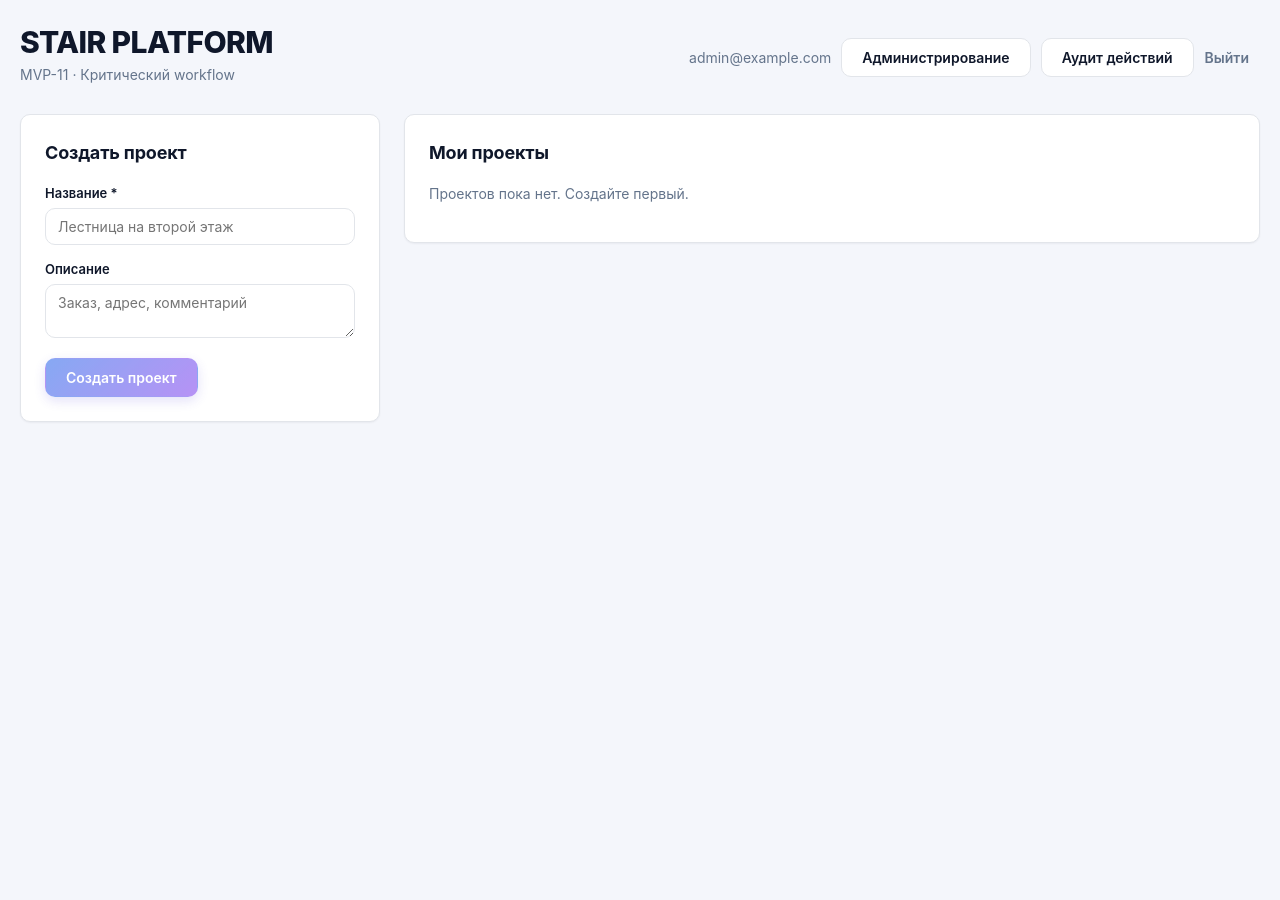
Test: App routing › открывает AdminPanel и возвращается назад
Click the button "Администрирование".
click(936, 58)  # box x1=841 y1=38 x2=1031 y2=77
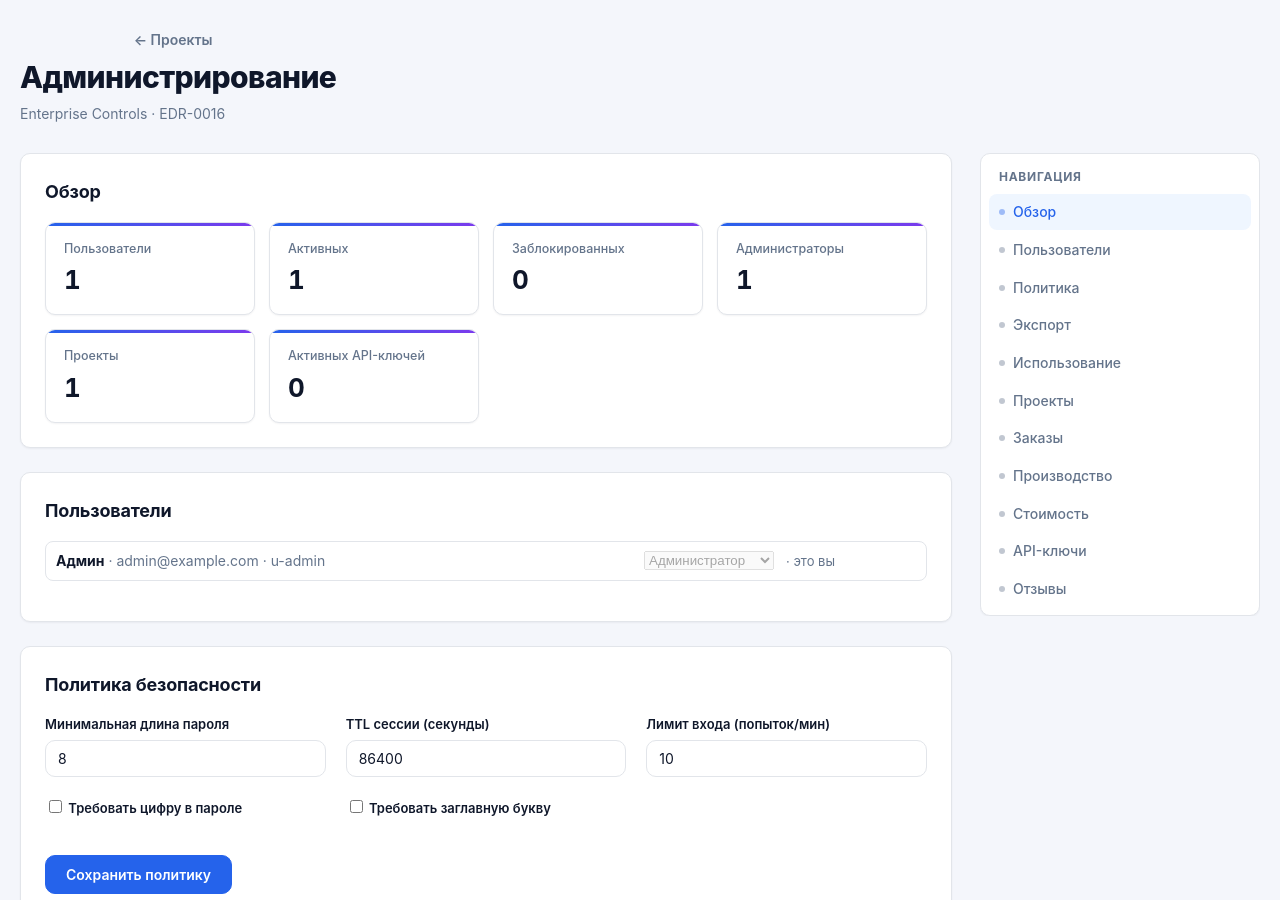
Now the heading "Администрирование" is shown, box x1=20 y1=59 x2=336 y2=95
Click the button "← Проекты".
click(173, 40)  # box x1=10 y1=24 x2=336 y2=55
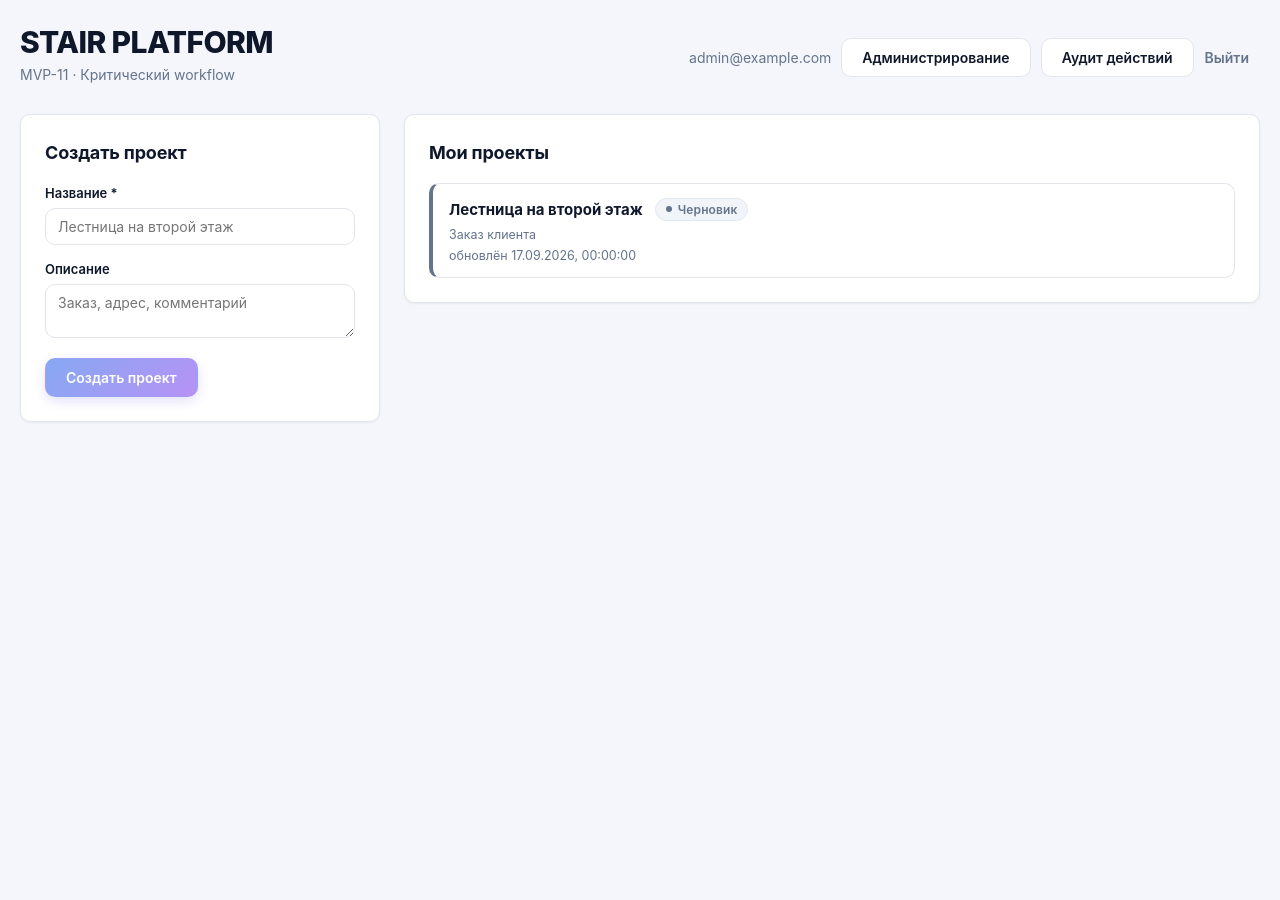
Now the button "Создать проект" is shown, box x1=45 y1=358 x2=198 y2=397
